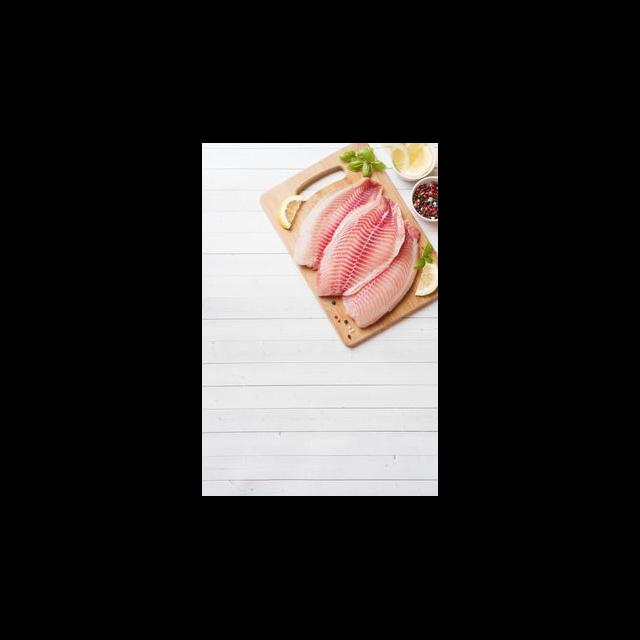fish: (310, 186, 408, 300)
